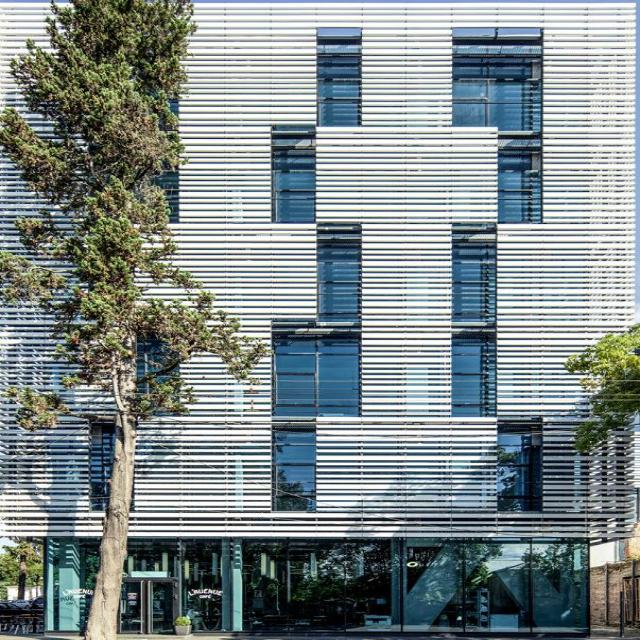door: (118, 579, 182, 636)
plant: (0, 0, 269, 639), (561, 323, 639, 452)
wall: (0, 1, 638, 636)
windows: (45, 540, 588, 636), (452, 27, 543, 222), (269, 328, 361, 418), (450, 222, 495, 320), (314, 227, 360, 319), (320, 27, 362, 126), (270, 420, 316, 510), (497, 416, 540, 509), (272, 127, 314, 222), (452, 336, 497, 417)
